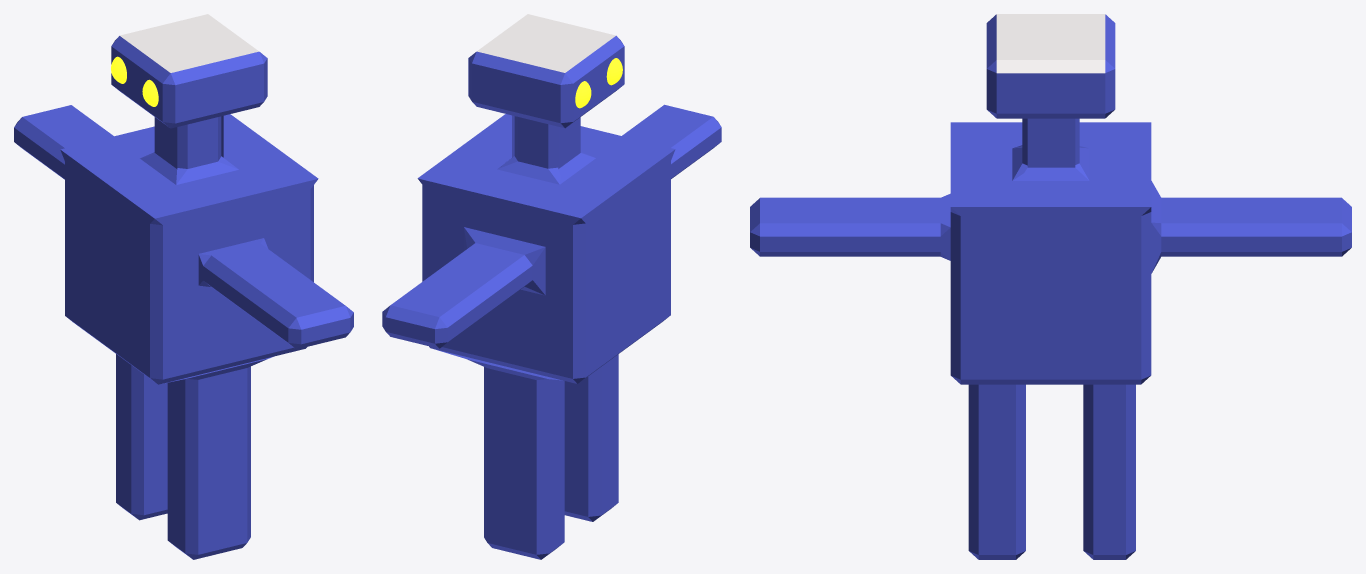
Rendered from lights.glb.
3 views of the same model, side by side, from view 1: azimuth 30°, elevation 25°; view 2: azimuth 150°, elevation 25°; view 3: azimuth 270°, elevation 25° (orthographic). The views are drawn at different scales.
Parts seen in each view (by area): view 1: Robot; view 2: Robot; view 3: Robot.
Boxes of the visible parts, box(x1,y1,x2,y2) form: Robot: box(14, 14, 353, 559); Robot: box(382, 14, 721, 559); Robot: box(750, 14, 1351, 559).
Size of the model in its own units: 2 by 5.65 by 6.
